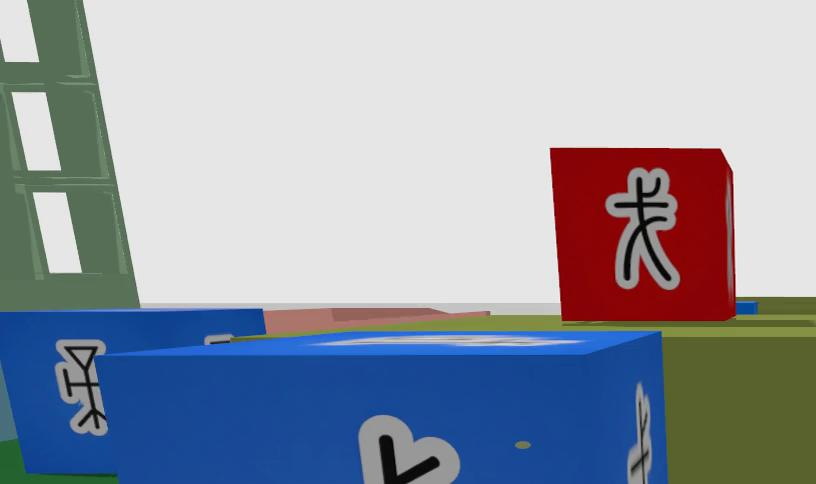KFS_FAKE: (551, 149, 736, 321), (606, 168, 680, 289)
KFS_REAL: (102, 331, 669, 484), (0, 308, 265, 473), (357, 415, 459, 484), (54, 340, 107, 434), (627, 383, 652, 484)
